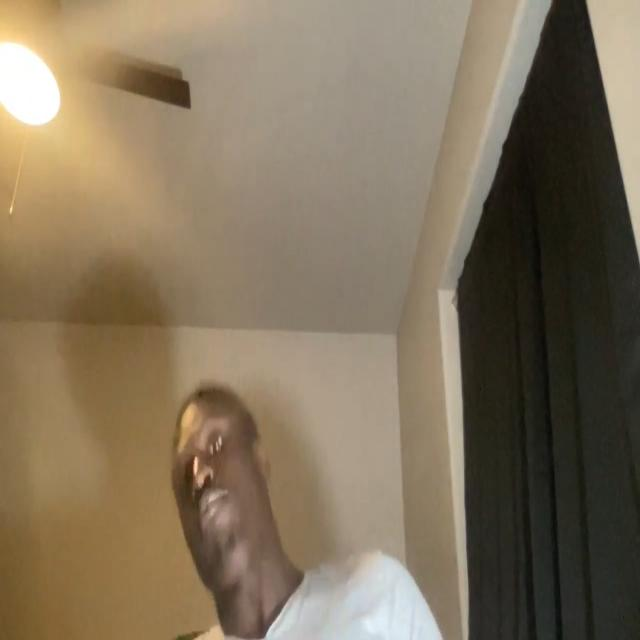face: (170, 381, 278, 618)
